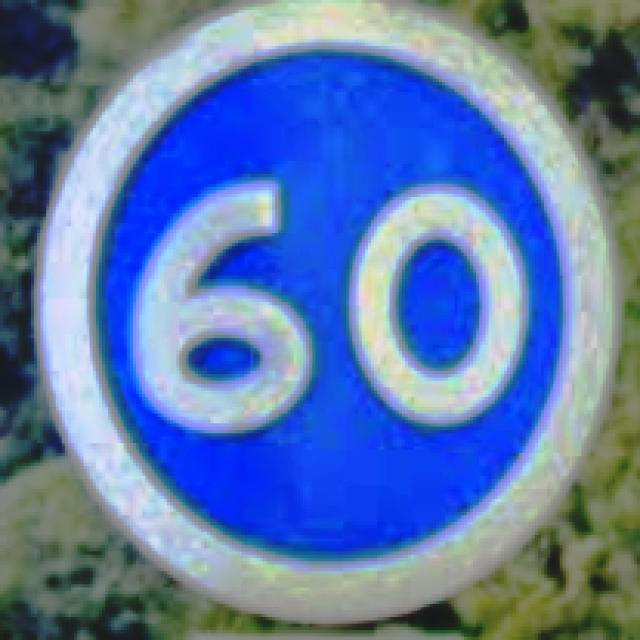min60: (31, 0, 621, 624)
